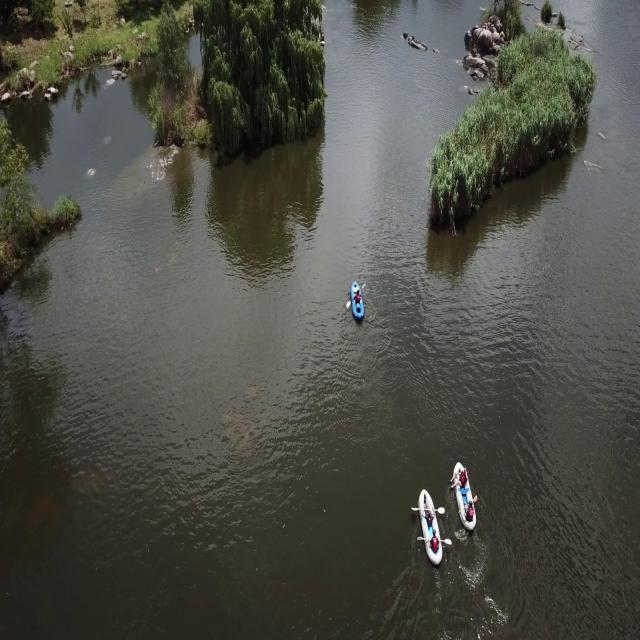kayak: (414, 484, 449, 569), (447, 460, 482, 540), (346, 276, 369, 330)
